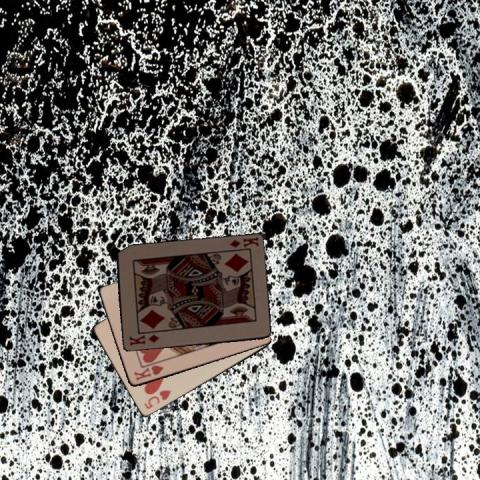5h: (141, 387, 173, 411)
Kd: (126, 331, 161, 348), (227, 234, 260, 249)
Kh: (131, 362, 164, 382)
